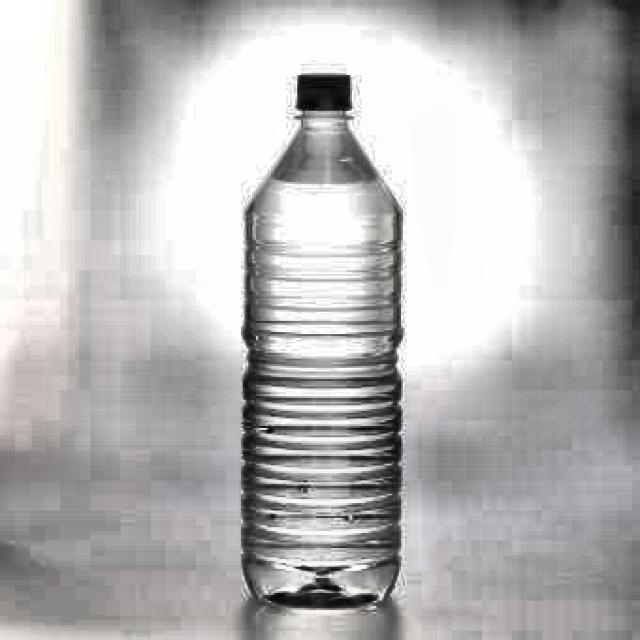Bottles: (228, 55, 426, 624)
